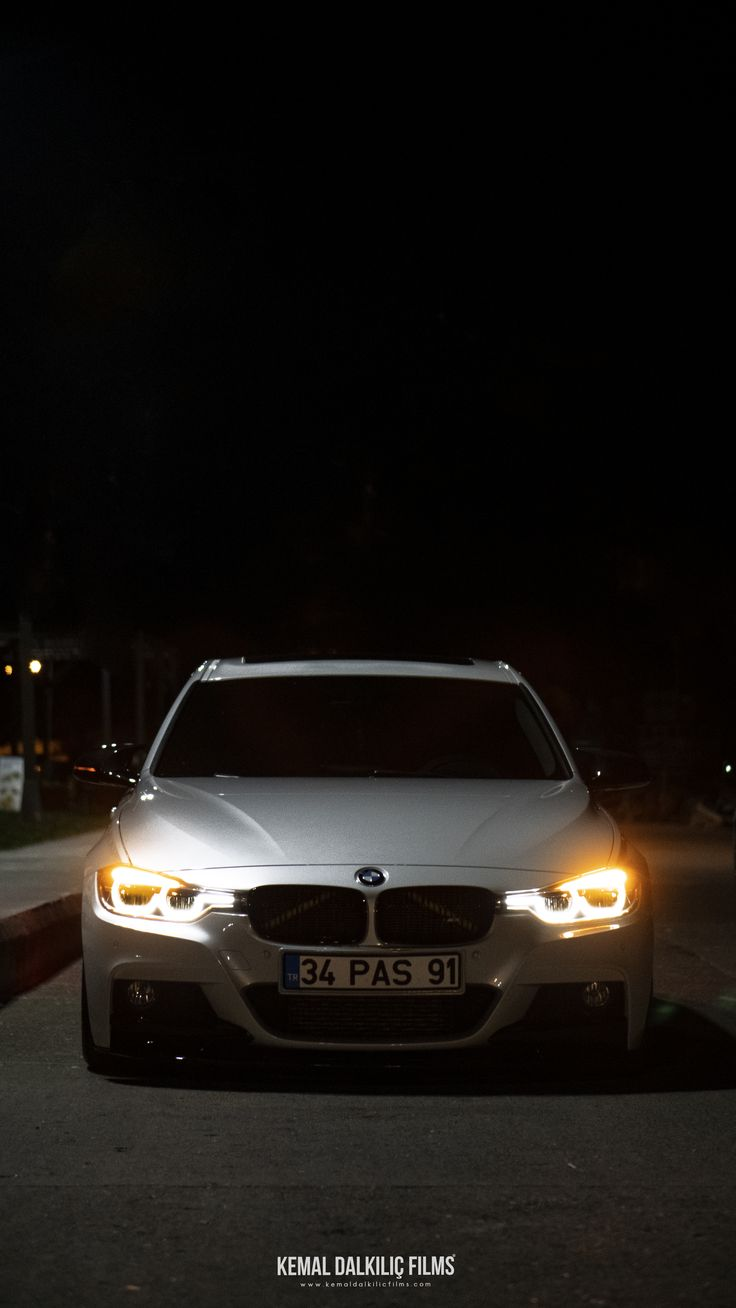plate: (286, 949, 462, 994)
